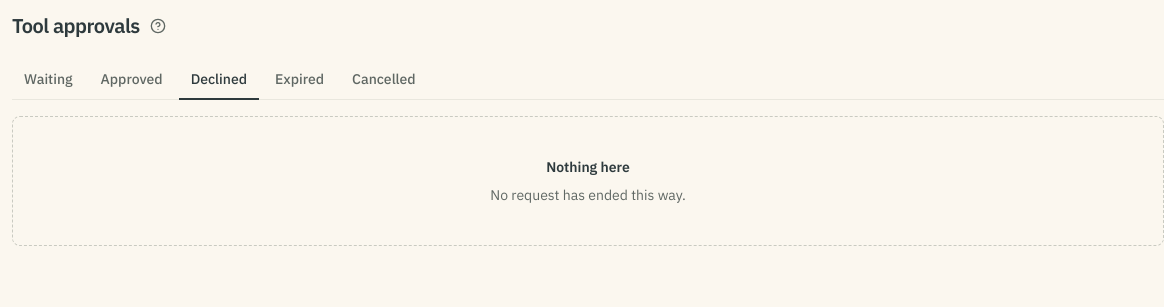
Test: shows the status the address names, and changes it from the tabs
Expected: the text "No request has ended this way." is shown, [490, 186, 686, 204]
Click the tab "Waiting".
click(48, 80)  # box [12, 60, 85, 100]
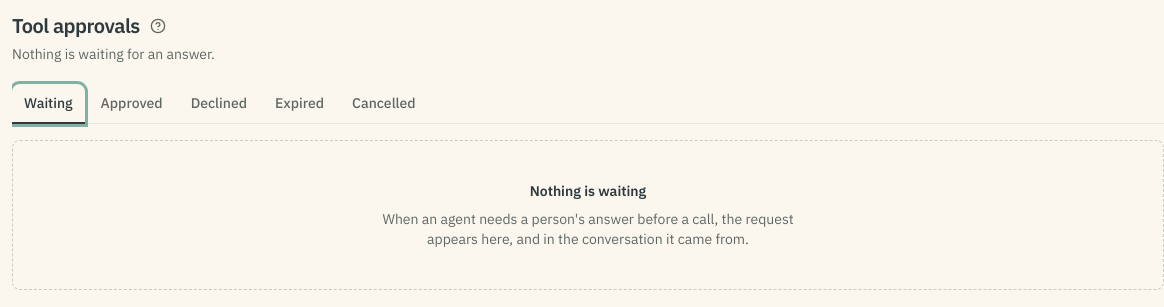
Result: the heading "Nothing is waiting" is shown at [530, 182, 646, 200]
